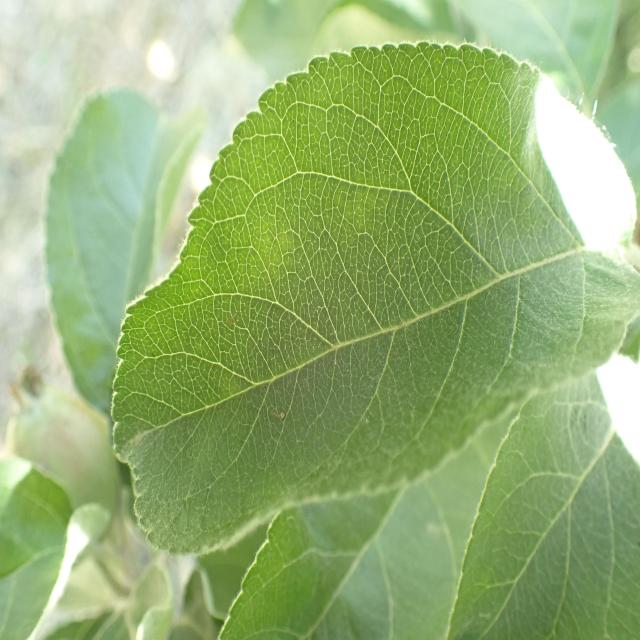healthy: (109, 41, 640, 555), (446, 352, 640, 640), (44, 85, 209, 421), (218, 476, 458, 640)
